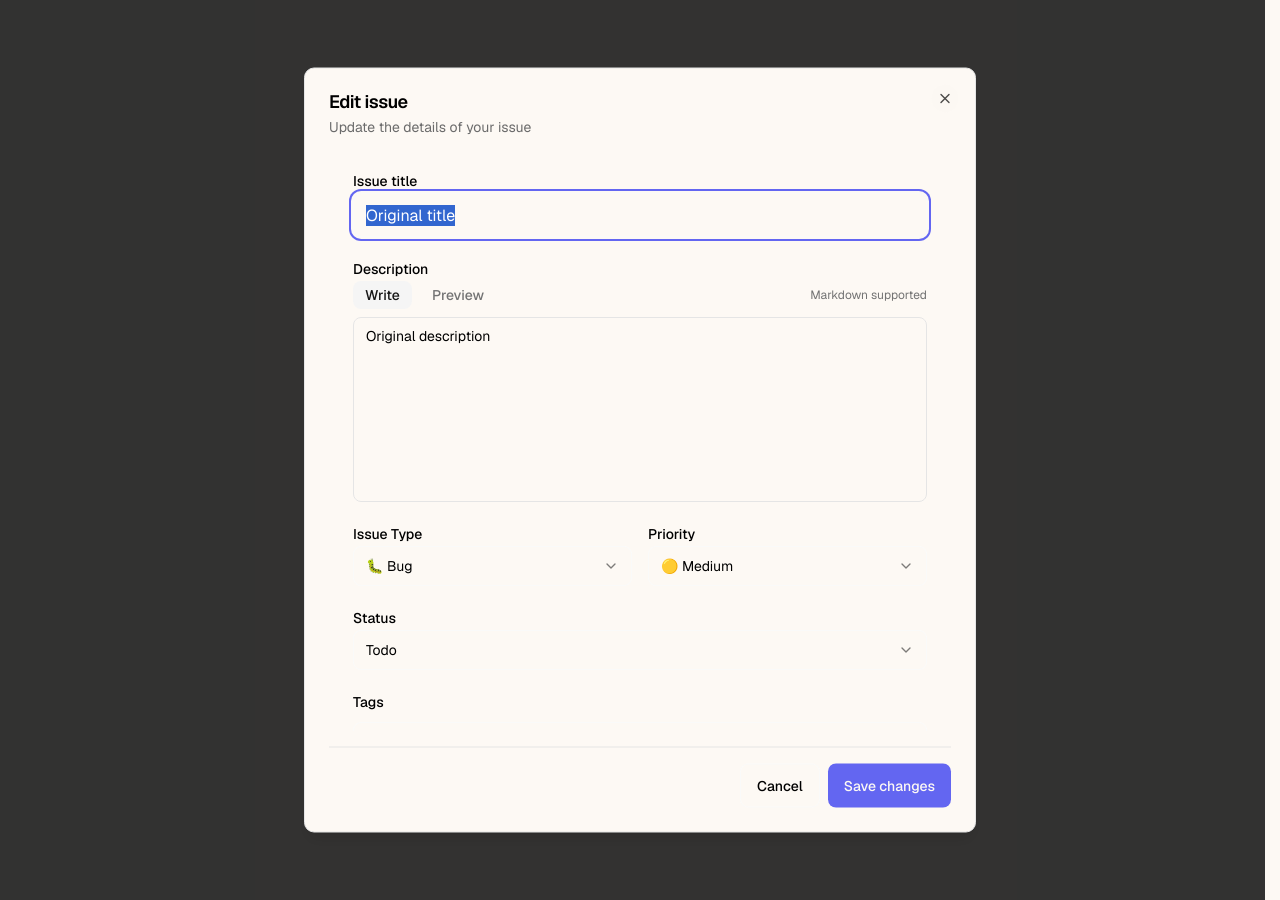
Test: EditIssueModal - Prompt Generation › error handling › should handle database update errors
The width and height of the screenshot is (1280, 900).
Expected: the field labelled "Issue title" is shown, [353,192,927,236]
Submit form
Click the button "Save changes" at coordinates (889, 786), box [828,764,951,808]
(page scrolled)
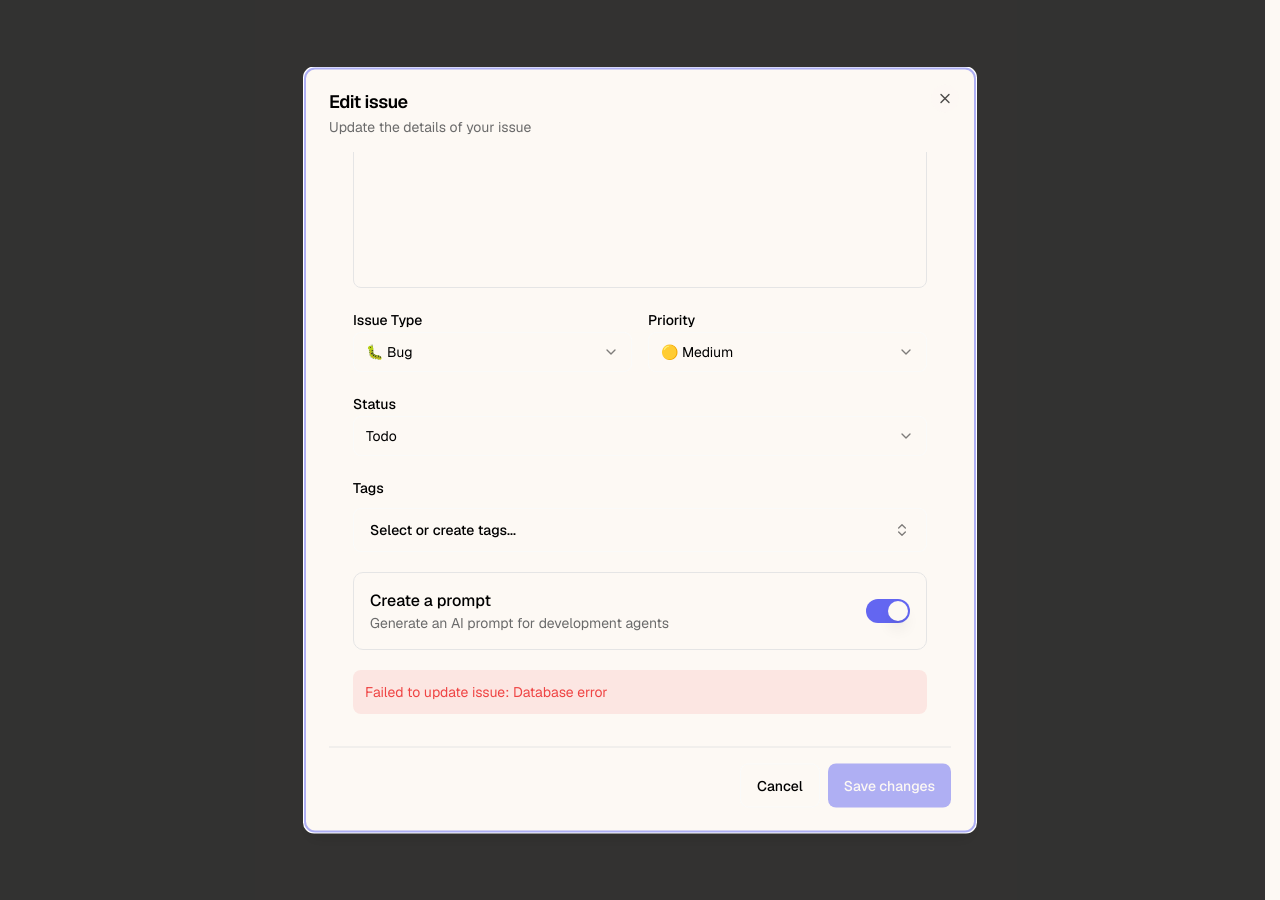
Result: the text "Failed to update issue: Database error" is shown at [353,670,927,714]
